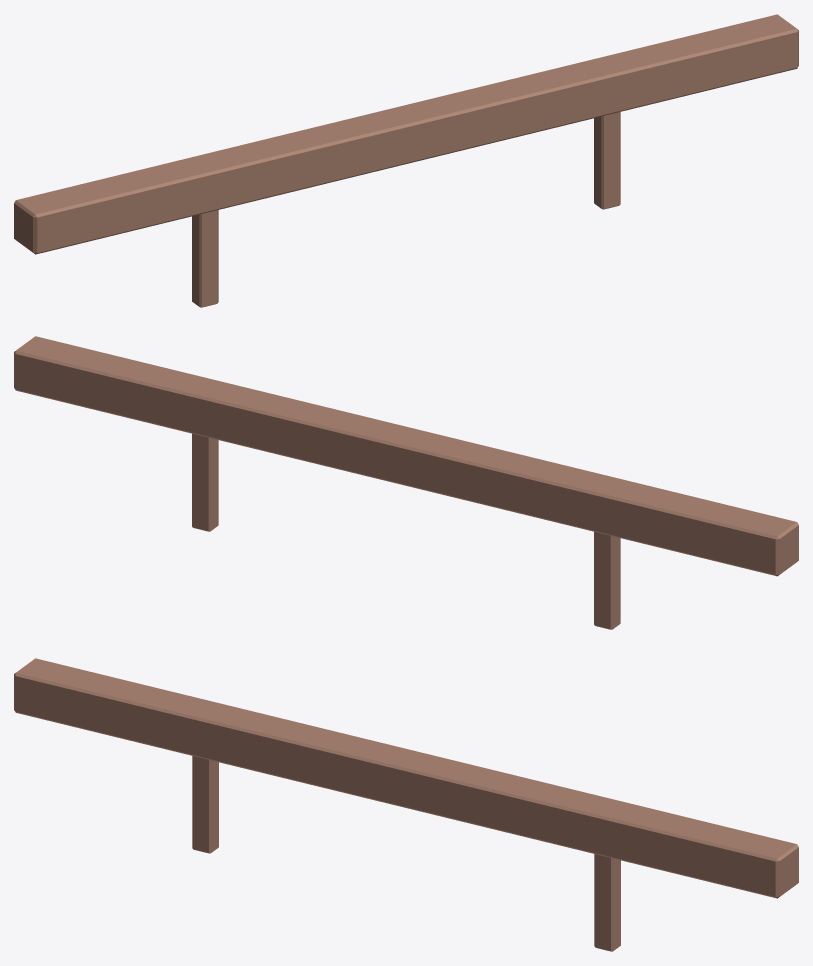
Rendered from mesh_handRailMod.fbx.
The picture shows the model from 3 angles, top to bottom: view 1: azimuth 30°, elevation 25°; view 2: azimuth 150°, elevation 25°; view 3: azimuth 330°, elevation 25°; orthographic projection.
Visible parts, largest first — view 1: mesh_handRailMod; view 2: mesh_handRailMod; view 3: mesh_handRailMod.
Part boxes in pixels (x1,y1,x2,y2): mesh_handRailMod: [14, 14, 798, 307]; mesh_handRailMod: [14, 336, 798, 629]; mesh_handRailMod: [14, 658, 798, 951].
Bounding box in the file's own units: 20 × 3.48 × 1.
